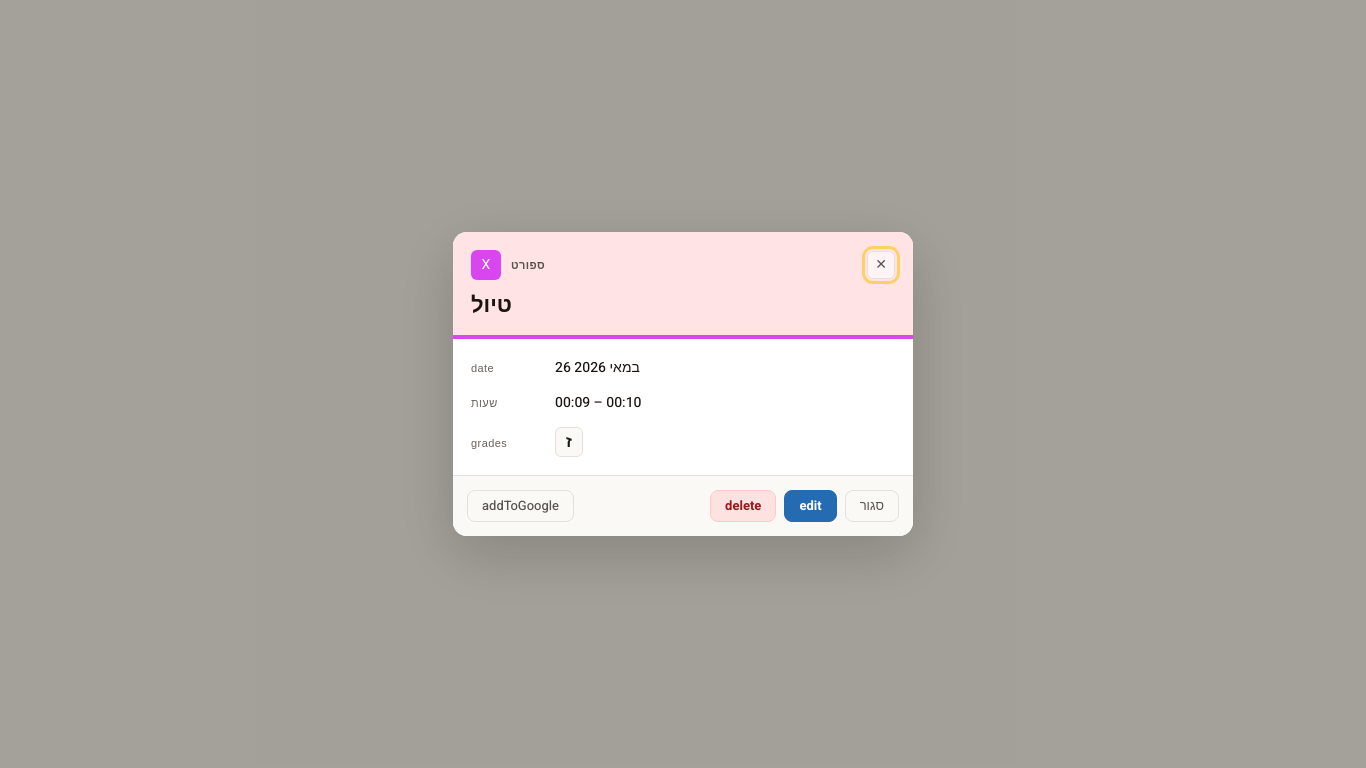
Test: EventDrawer editing › shows editable start and end times in chronological order
Click the button "edit": click(811, 506) [784,490,837,522]
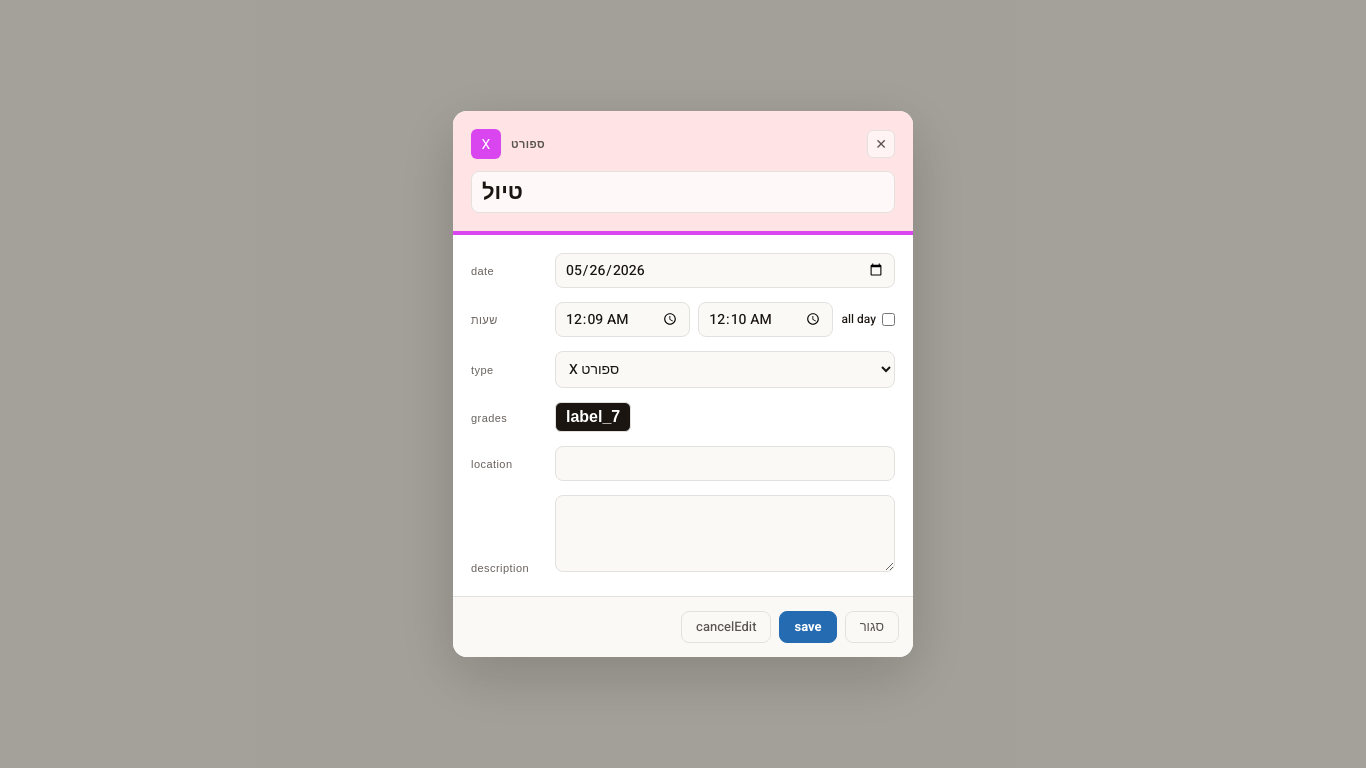
Now the time field named "start time" holds "00:09", box [555,302,690,337]
Now the time field named "end time" holds "00:10", box [698,302,833,337]
Now the element named "start time" is shown, box [555,302,895,337]
